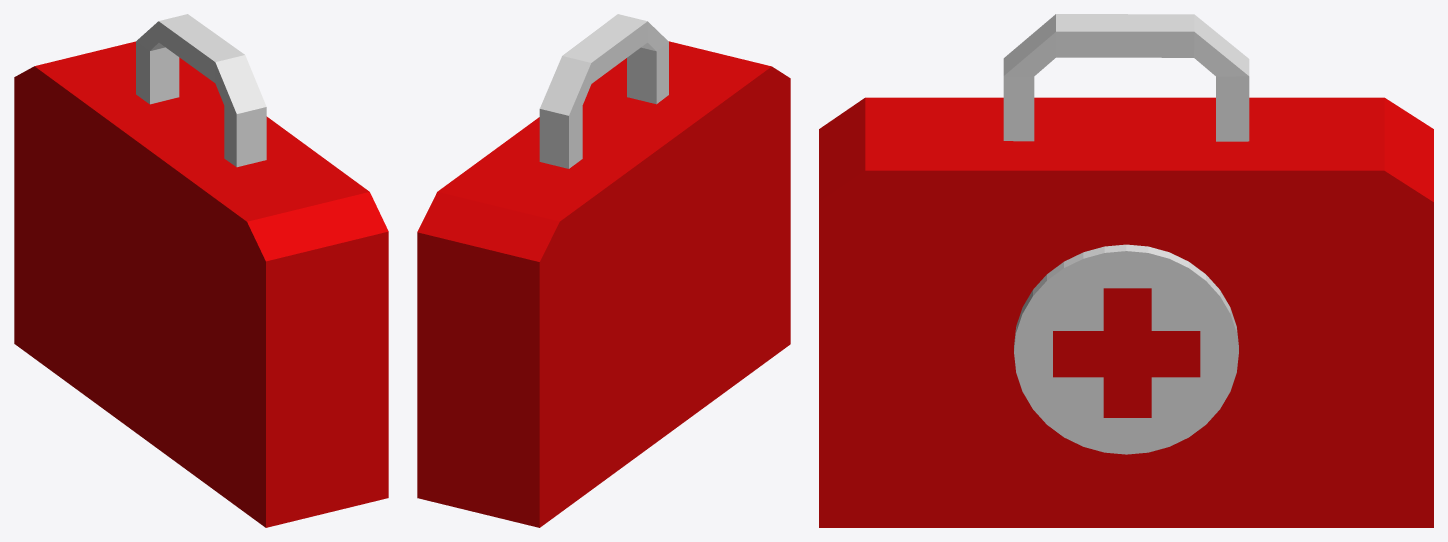
The model's file is medkit.fbx.
3 views of the same model, side by side, from view 1: azimuth 30°, elevation 25°; view 2: azimuth 150°, elevation 25°; view 3: azimuth 270°, elevation 25° (orthographic). The views are drawn at different scales.
Parts seen in each view (by area): view 1: Cube; view 2: Cube; view 3: Cube, Circle, Plane.
Part boxes in pixels (<box>): Cube: <box>14,14,388,527</box>; Cube: <box>417,14,790,527</box>; Cube: <box>819,14,1433,527</box>; Circle: <box>1014,244,1238,454</box>; Plane: <box>1053,288,1200,417</box>.
Size of the model in its own units: 62.34 by 168 by 200.
